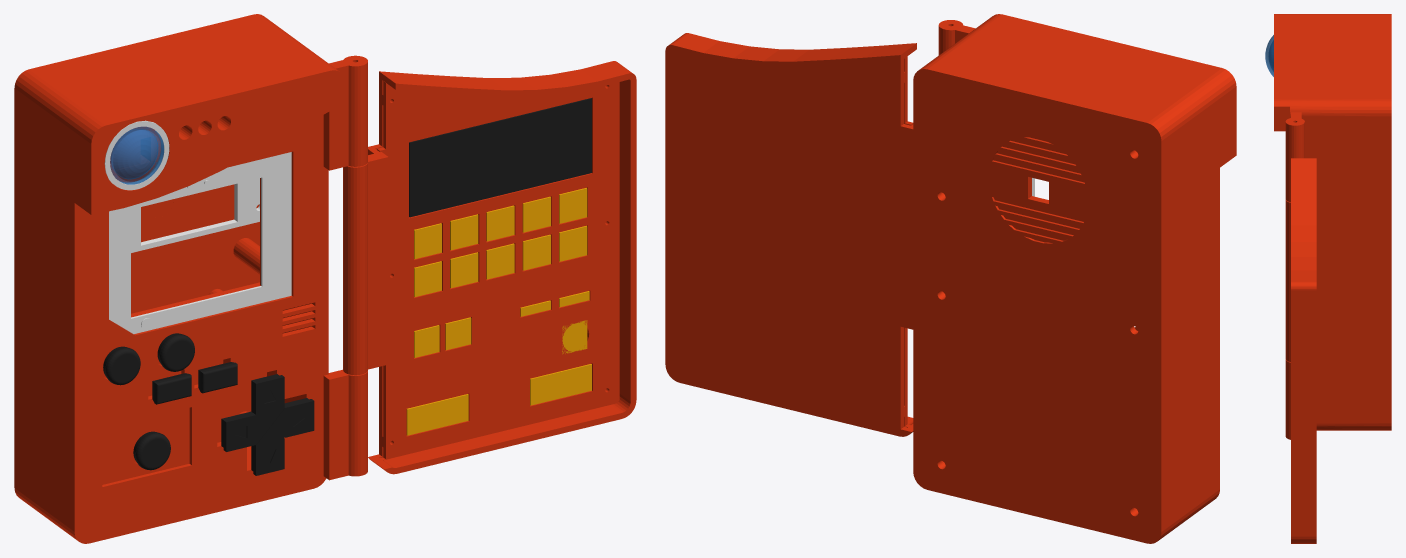
Rendered from pokedex_colored.glb.
The picture shows the model from 3 angles, left to right: view 1: azimuth 30°, elevation 25°; view 2: azimuth 150°, elevation 25°; view 3: azimuth 270°, elevation 25°; orthographic projection. The views are drawn at different scales.
Parts seen in each view (by area): view 1: PDX_Red, PDX_Black, PDX_Amber, PDX_White, PDX_Blue; view 2: PDX_Red; view 3: PDX_Red, PDX_Blue.
Part boxes in pixels (box(x1,y1,x2,y2)): PDX_Red: box(14, 14, 636, 543); PDX_Black: box(103, 98, 591, 475); PDX_Amber: box(406, 188, 591, 435); PDX_White: box(104, 120, 291, 334); PDX_Blue: box(110, 126, 164, 184); PDX_Red: box(665, 14, 1236, 543); PDX_Red: box(1274, 14, 1391, 543); PDX_Blue: box(1265, 35, 1273, 76).
Size of the model in its own units: 23 by 17 by 5.9.
